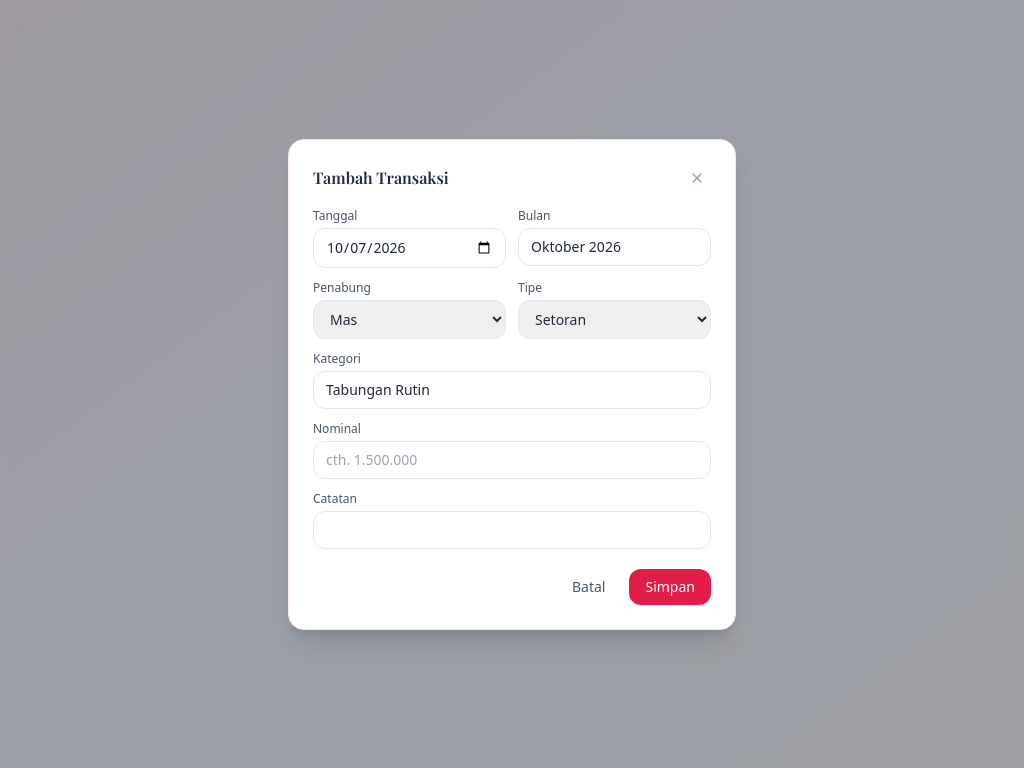
AddTransactionModal Component › rejects zero nominal
The width and height of the screenshot is (1024, 768).
In the field labelled "Nominal": (512, 460) [313,440,711,478], type "0"
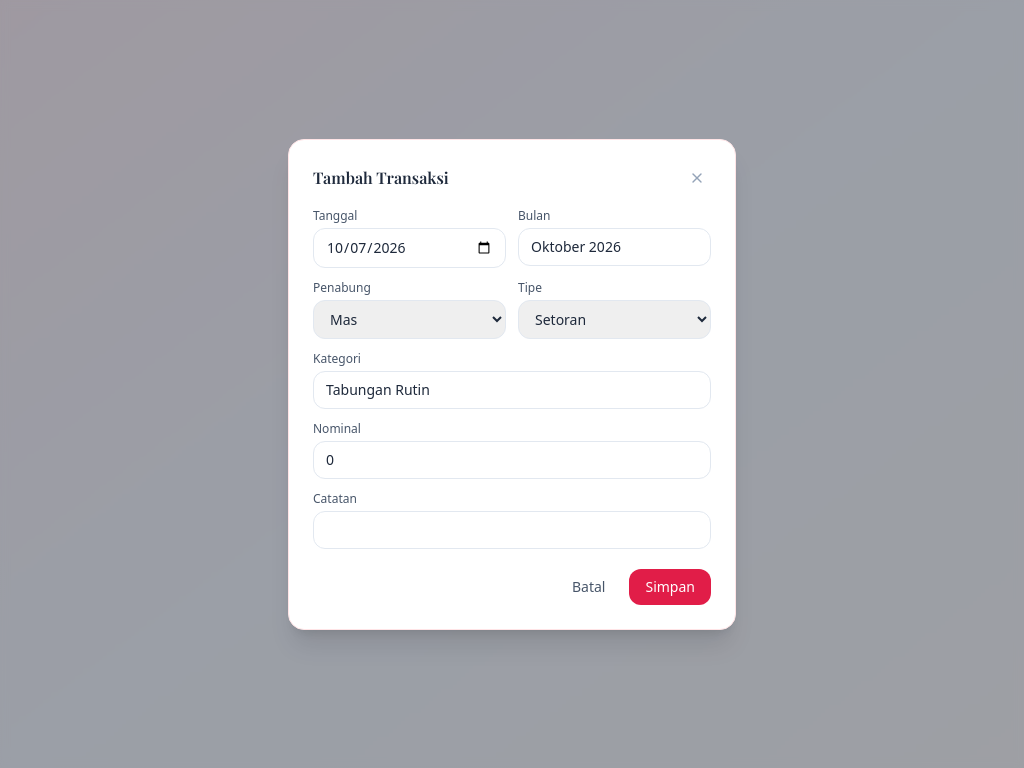
Click the button "Simpan": (670, 586) [630,568,711,604]
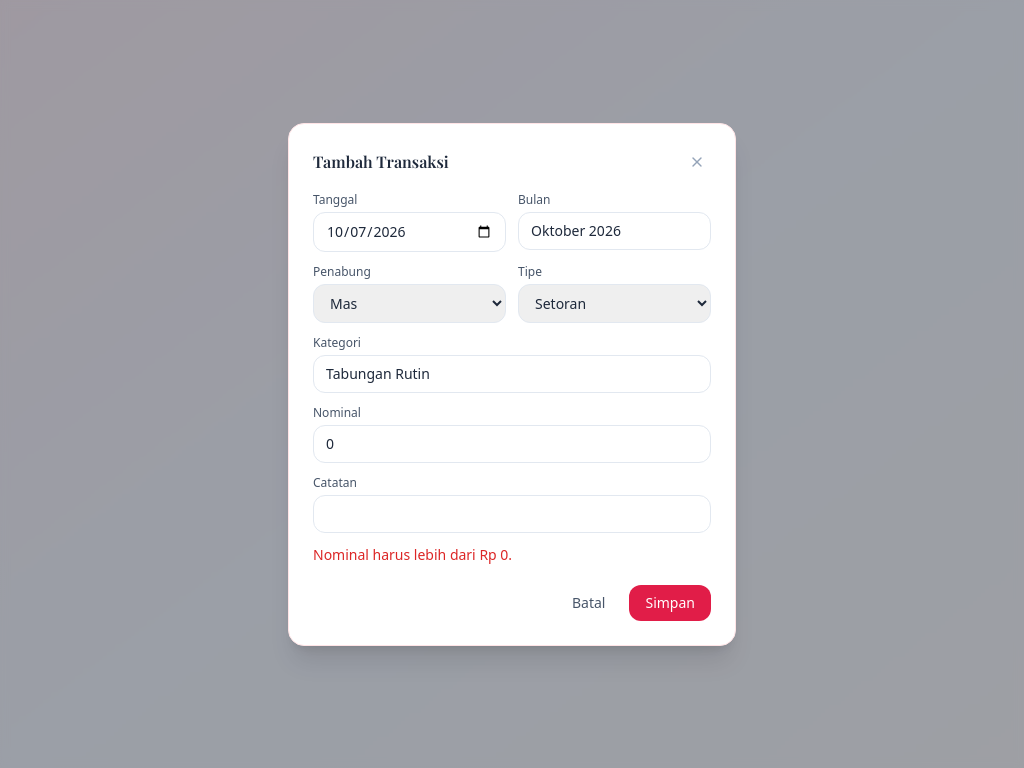
Expected: the message shows "Nominal", [313,544,512,564]
